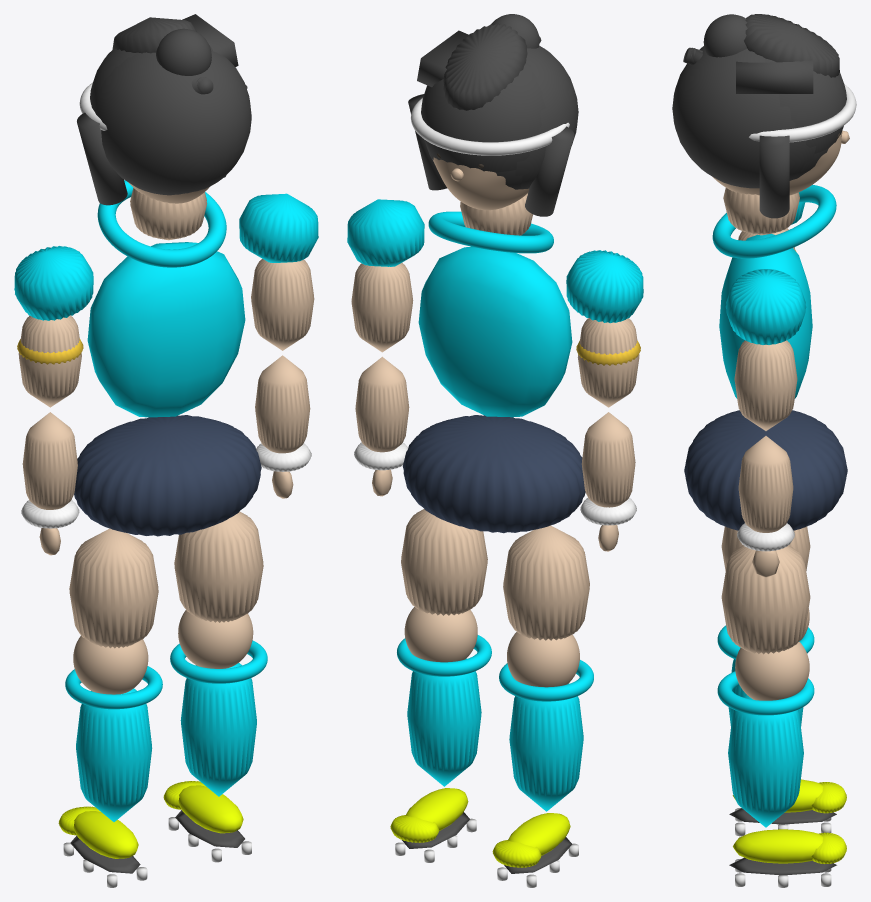
Rendered from realistic_athlete.glb.
The picture shows the model from 3 angles, left to right: view 1: azimuth 30°, elevation 25°; view 2: azimuth 150°, elevation 25°; view 3: azimuth 270°, elevation 25°; orthographic projection. The views are drawn at different scales.
Visible parts, largest first — view 1: Athlete_Jersey, Mesh_Hair_FlowingWaves, Athlete_Shorts, Athlete_Thigh_L, Athlete_Thigh_R, Athlete_Sock_R, Athlete_Sock_L, Athlete_Sleeve_L, Athlete_ArmUpper_R, Athlete_Sleeve_R, Athlete_ArmLower_R, Athlete_ArmLower_L (+17 smaller); view 2: Athlete_Jersey, Athlete_Shorts, Mesh_Hair_ClassicCrop, Athlete_Thigh_L, Athlete_Thigh_R, Athlete_Sock_R, Athlete_Sock_L, Mesh_Hair_FlowingWaves, Mesh_Hair_FadeQuiff, Athlete_Sleeve_L, Athlete_ArmUpper_R, Athlete_Sleeve_R (+21 smaller); view 3: Mesh_Hair_FlowingWaves, Athlete_Shorts, Athlete_Thigh_R, Athlete_Sock_R, Mesh_Hair_ClassicCrop, Athlete_Sleeve_R, Athlete_ArmUpper_R, Athlete_ArmLower_R, Athlete_Jersey, Mesh_Hair_FadeQuiff, Athlete_Knee_R, Athlete_Collar (+15 smaller).
Part boxes in pixels (x1=…): Athlete_Jersey: x1=87, y1=242, x2=245, y2=417; Mesh_Hair_FlowingWaves: x1=77, y1=45, x2=251, y2=205; Athlete_Shorts: x1=74, y1=415, x2=261, y2=536; Athlete_Thigh_L: x1=69, y1=528, x2=158, y2=648; Athlete_Thigh_R: x1=174, y1=511, x2=263, y2=622; Athlete_Sock_R: x1=180, y1=663, x2=256, y2=796; Athlete_Sock_L: x1=76, y1=688, x2=152, y2=821; Athlete_Sleeve_L: x1=14, y1=246, x2=93, y2=320; Athlete_ArmUpper_R: x1=251, y1=259, x2=314, y2=350; Athlete_Sleeve_R: x1=239, y1=193, x2=318, y2=262; Athlete_ArmLower_R: x1=255, y1=355, x2=310, y2=453; Athlete_ArmLower_L: x1=22, y1=412, x2=77, y2=509; Athlete_Jersey: x1=418, y1=246, x2=572, y2=417; Athlete_Shorts: x1=402, y1=415, x2=585, y2=533; Mesh_Hair_ClassicCrop: x1=417, y1=30, x2=545, y2=172; Athlete_Thigh_L: x1=503, y1=525, x2=589, y2=640; Athlete_Thigh_R: x1=401, y1=509, x2=487, y2=615; Athlete_Sock_R: x1=407, y1=658, x2=481, y2=786; Athlete_Sock_L: x1=509, y1=683, x2=583, y2=811; Mesh_Hair_FlowingWaves: x1=408, y1=46, x2=578, y2=216; Mesh_Hair_FadeQuiff: x1=443, y1=23, x2=527, y2=110; Athlete_Sleeve_L: x1=566, y1=250, x2=643, y2=323; Athlete_ArmUpper_R: x1=351, y1=263, x2=413, y2=352; Athlete_Sleeve_R: x1=347, y1=199, x2=424, y2=266; Mesh_Hair_FlowingWaves: x1=672, y1=46, x2=816, y2=218; Athlete_Shorts: x1=684, y1=410, x2=847, y2=530; Athlete_Thigh_R: x1=721, y1=545, x2=810, y2=654; Athlete_Sock_R: x1=728, y1=694, x2=803, y2=827; Mesh_Hair_ClassicCrop: x1=736, y1=58, x2=846, y2=153; Athlete_Sleeve_R: x1=725, y1=269, x2=806, y2=344; Athlete_ArmUpper_R: x1=734, y1=340, x2=797, y2=430; Athlete_ArmLower_R: x1=738, y1=436, x2=793, y2=532; Athlete_Jersey: x1=719, y1=233, x2=812, y2=398; Mesh_Hair_FadeQuiff: x1=744, y1=14, x2=839, y2=77; Athlete_Knee_R: x1=735, y1=642, x2=809, y2=700; Athlete_Collar: x1=712, y1=184, x2=836, y2=258.
Bounding box in the file's own units: 0.783 × 2.14 × 0.429.
